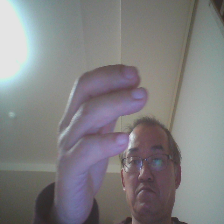hand: (52, 64, 139, 220)
